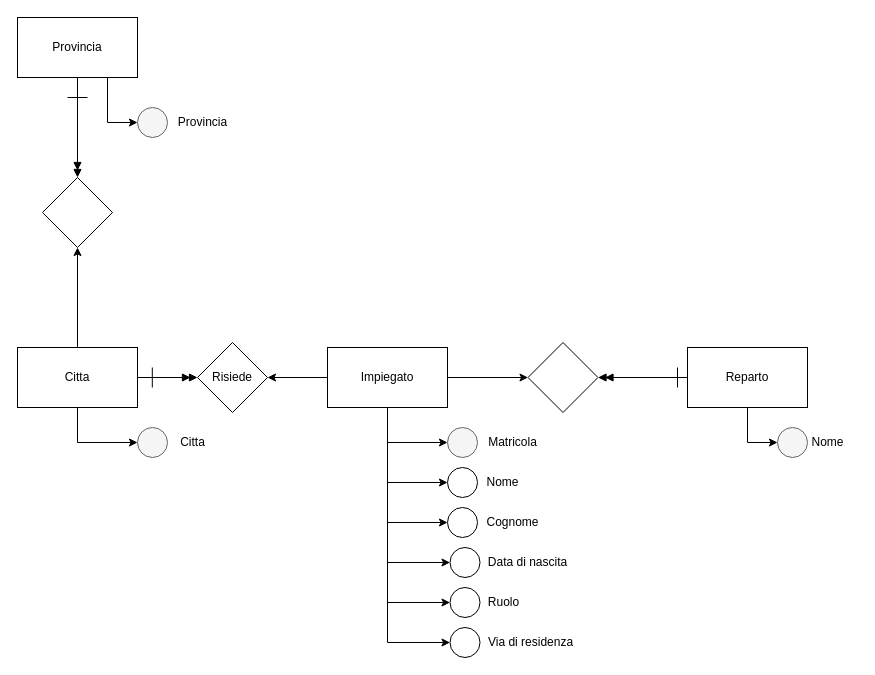
The diagram is 875 pixels wide and 675 high, and some of its shapes have lost their labels. Each missing label, with the centre of its shape:
Appartiene: [562,377]
Possiede: [77,212]
